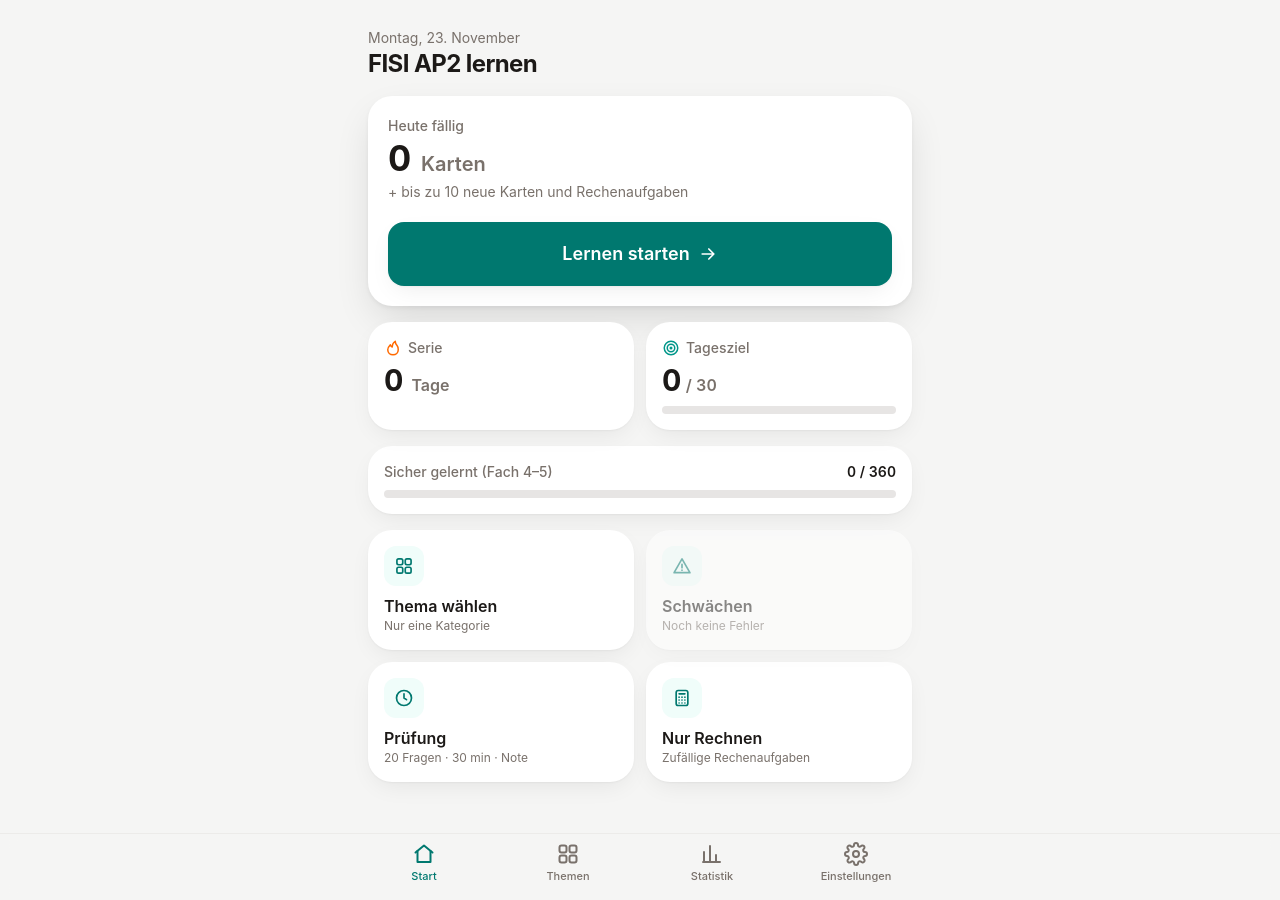
Test: App › Tägliches Lernen: Feedback mit Icon + Text, Fortschritt wird gespeichert
The width and height of the screenshot is (1280, 900).
Later steps or results of the test are not shown.
Click the button "Lernen starten".
click(640, 254)  # box [388, 222, 892, 286]
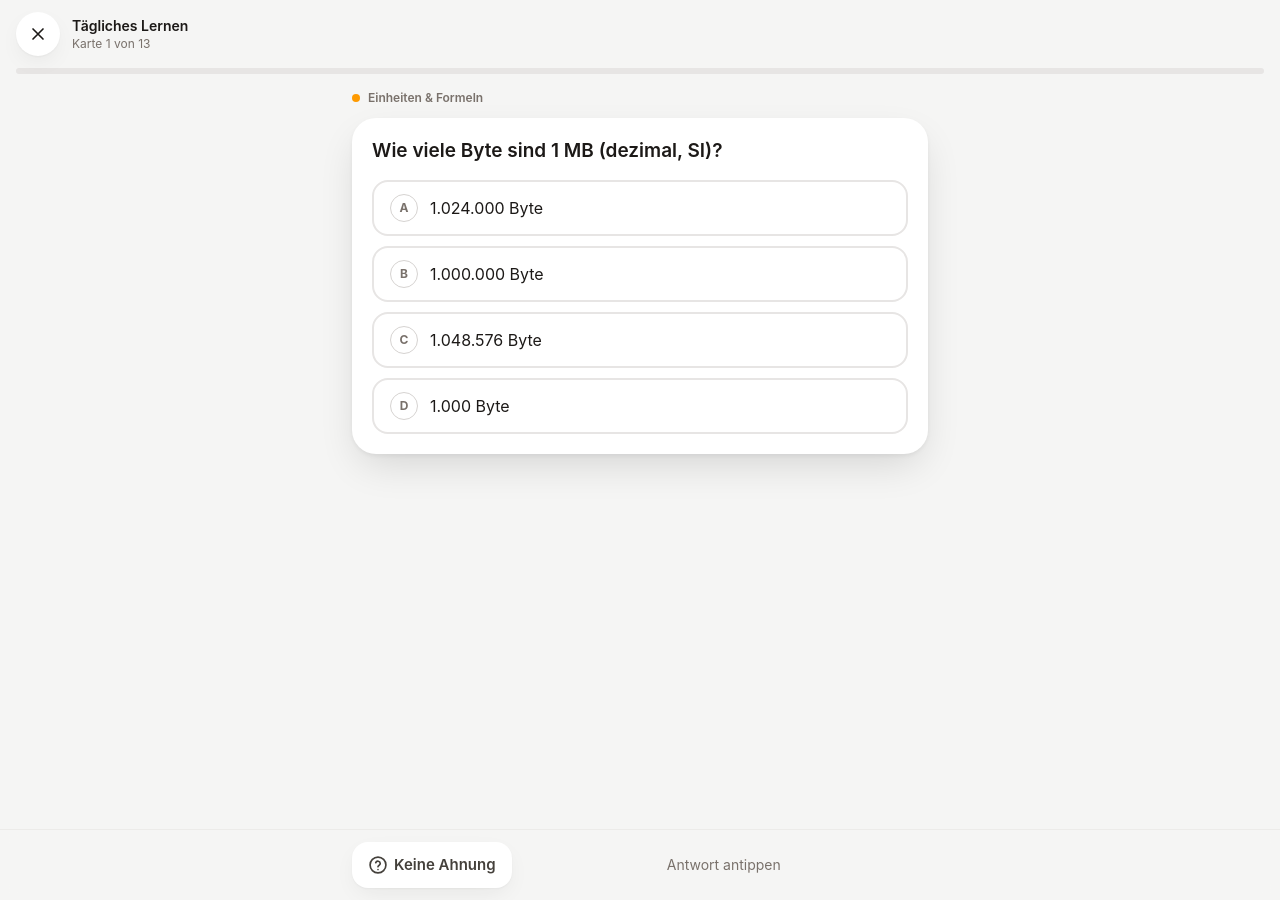
Click the list item "A 1.024.000 Byte".
click(487, 208)  # box [372, 180, 908, 236]
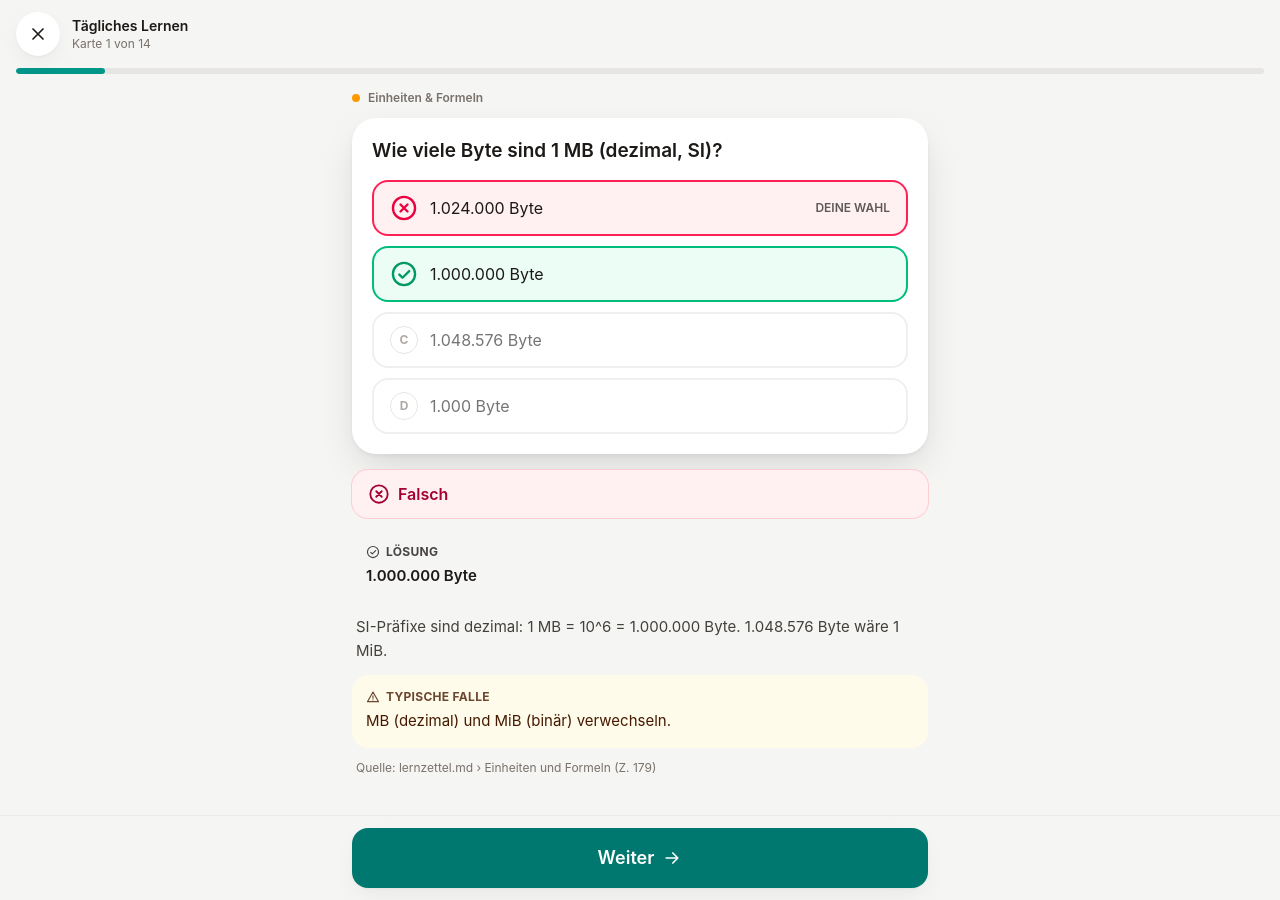
Expected: the icon next to "Falsch" is shown, [368, 483, 390, 505]
Expected: the message reads "Falsch", [398, 484, 448, 504]
